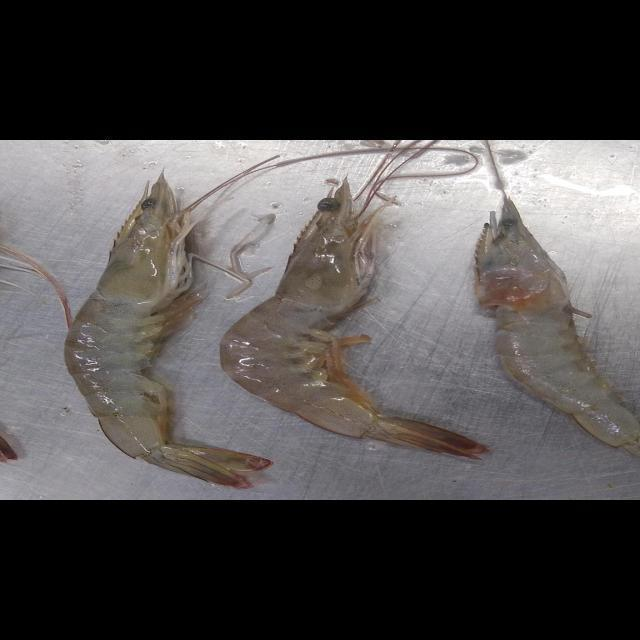shrimp: (220, 181, 487, 459), (64, 176, 271, 489), (473, 192, 640, 458)
